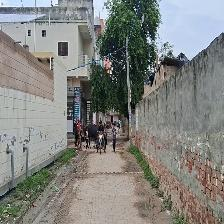Bike: (93, 120, 107, 157)
Drain: (0, 148, 79, 222)
Human: (70, 116, 91, 150), (109, 123, 119, 154)
Obstacle: (125, 35, 135, 151)
Road: (11, 142, 183, 223)
